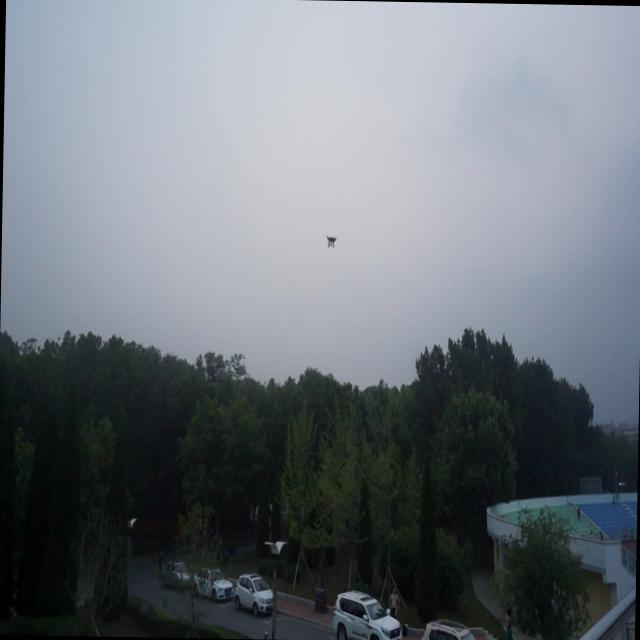drone: (324, 231, 338, 248)
